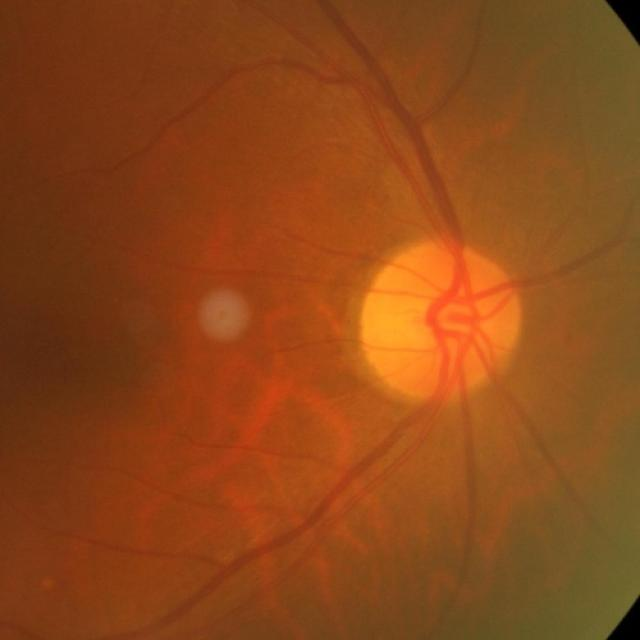OC: (402, 281, 476, 348)
OD: (358, 244, 520, 402)
